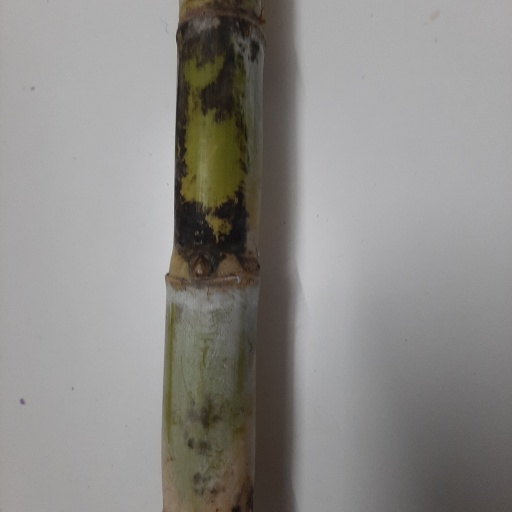Bud: (189, 254, 212, 279)
